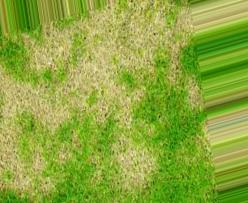patch: (10, 86, 67, 120), (84, 24, 111, 88), (120, 141, 151, 180)
